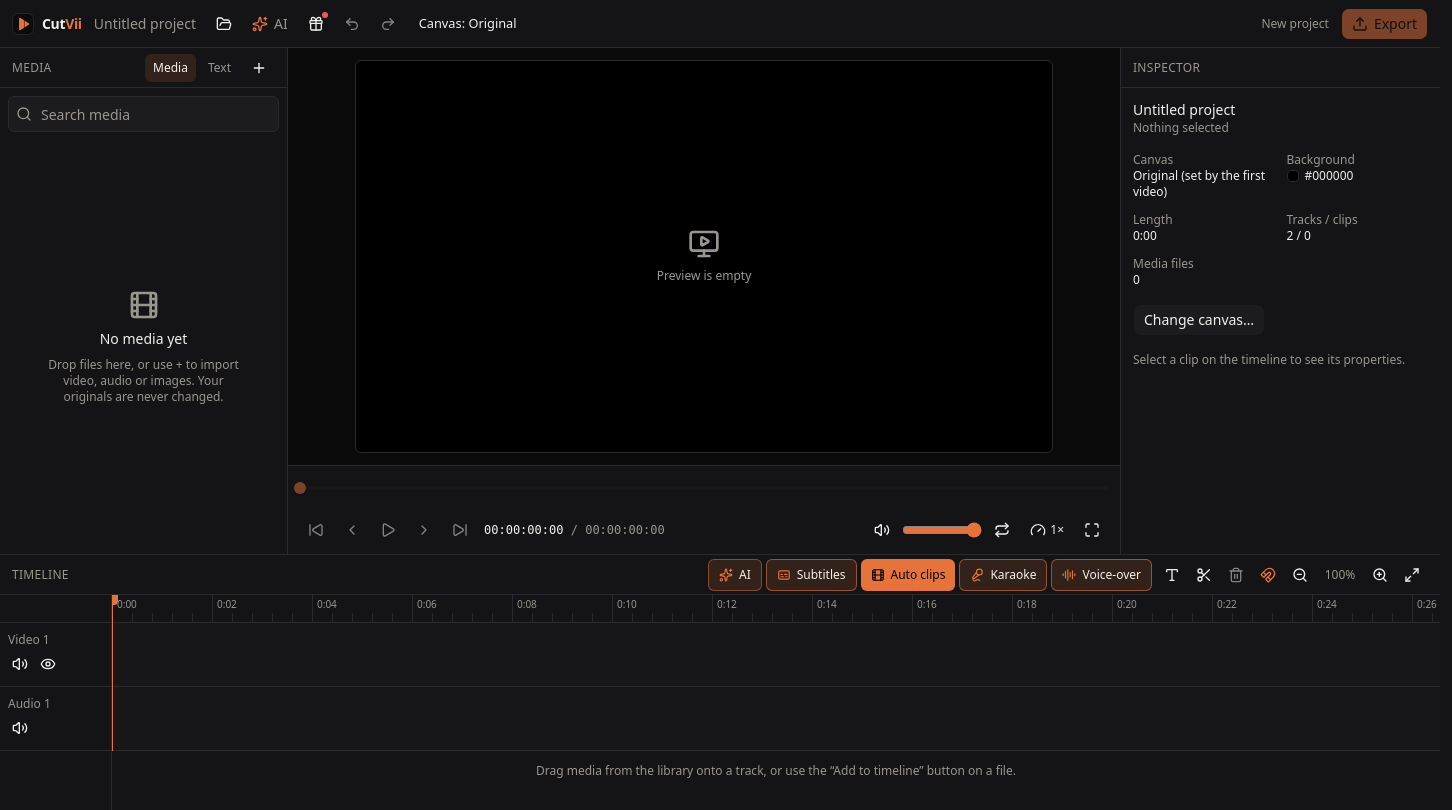
Test case: Original canvas applied by the first media › odd dimensions are rounded down to even, and the notice says so
This screenshot has width=1452, height=810.
Click the button named "Import media" at coordinates (259, 68), box top-left (243, 52), bottom-right (275, 84)
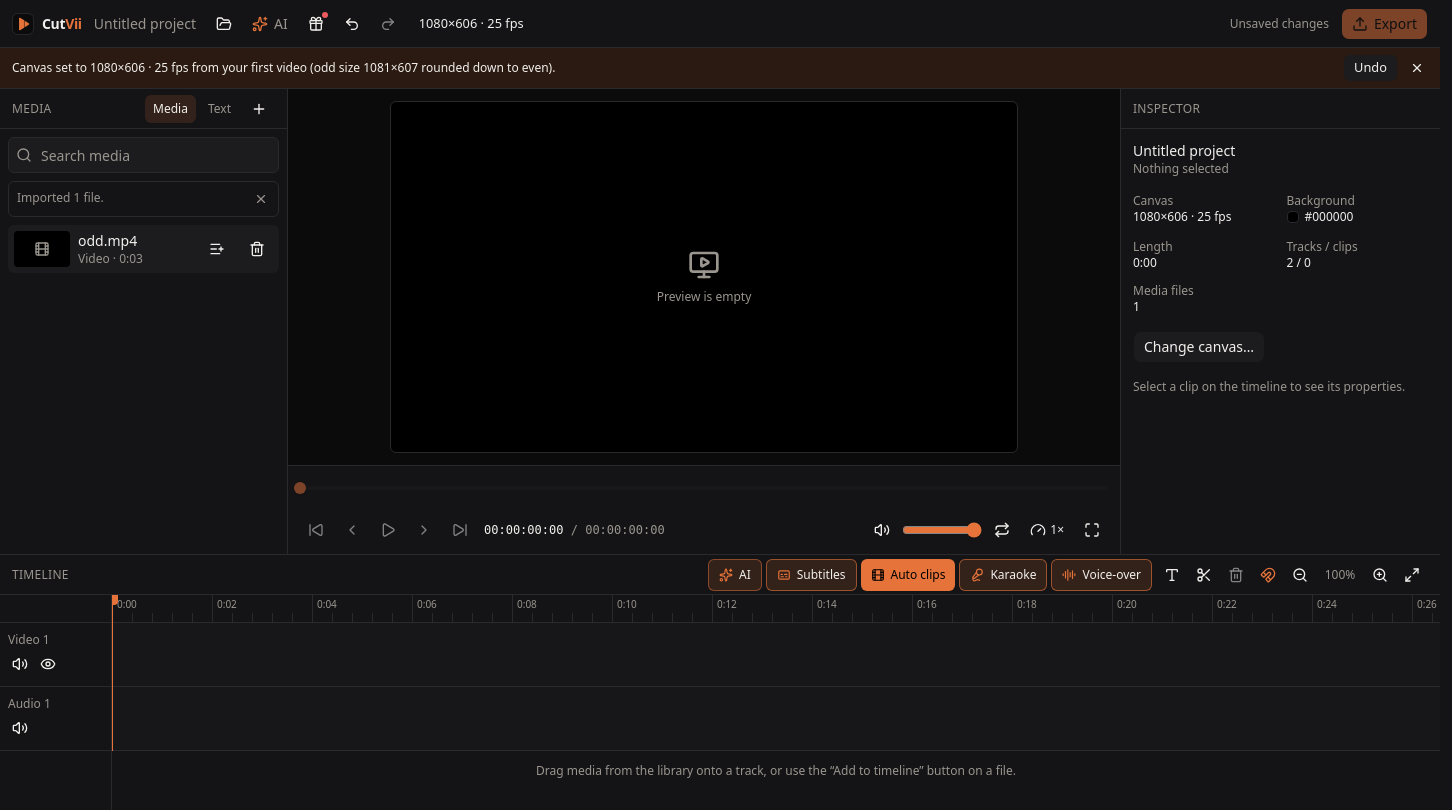
Expected: the text "odd.mp4" is shown, top-left (78, 231), bottom-right (137, 250)
Expected: the text "odd size 1081×607 rounded down to even" is shown, top-left (12, 59), bottom-right (555, 76)
